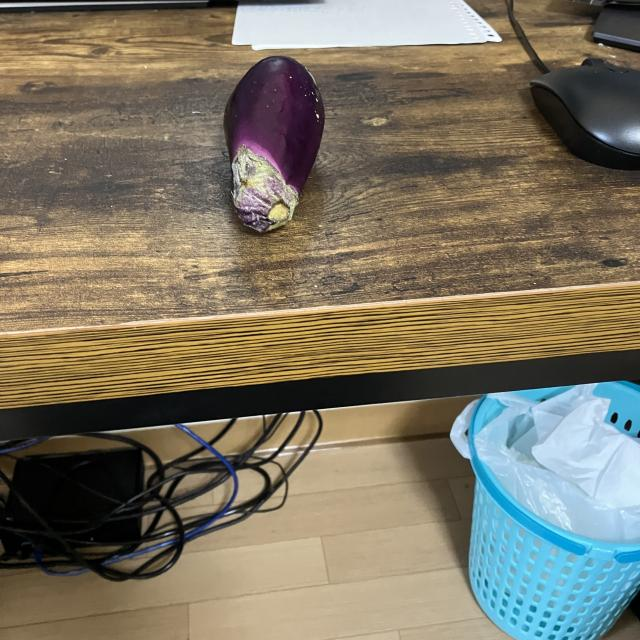eggplant: (221, 51, 327, 239)
